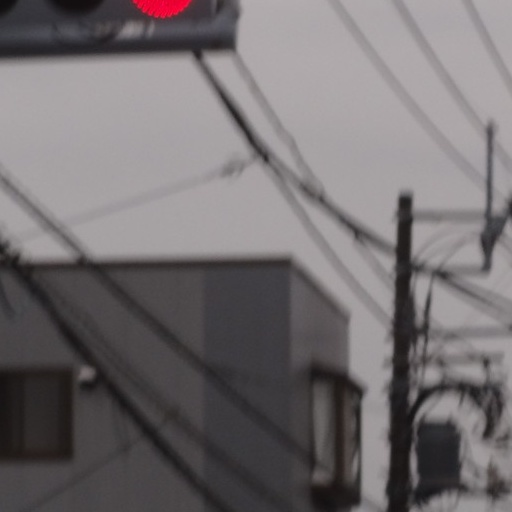Traffic_Signal_Red: (5, 1, 238, 47)
